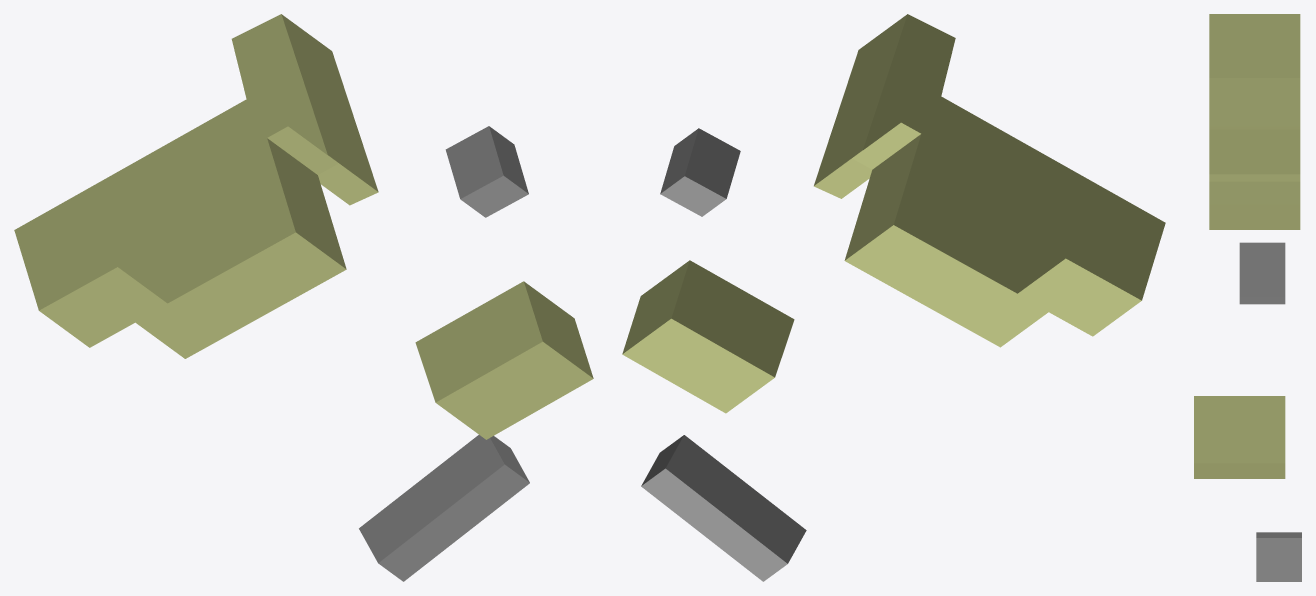
3 views of the same model, side by side, from view 1: azimuth 30°, elevation 25°; view 2: azimuth 150°, elevation 25°; view 3: azimuth 270°, elevation 25° (orthographic). The views are drawn at different scales.
Parts seen in each view (by area): view 1: 0_1_0_2_0_0_3_2_2; view 2: 0_1_0_2_0_0_3_2_2; view 3: 0_1_0_2_0_0_3_2_2.
Boxes of the visible parts, x1,y1,x2,y2 form: 0_1_0_2_0_0_3_2_2: [14, 14, 593, 581]; 0_1_0_2_0_0_3_2_2: [622, 14, 1165, 581]; 0_1_0_2_0_0_3_2_2: [1194, 14, 1301, 581].
Bounding box in the file's own units: 35.44 × 37.37 × 7.1.
